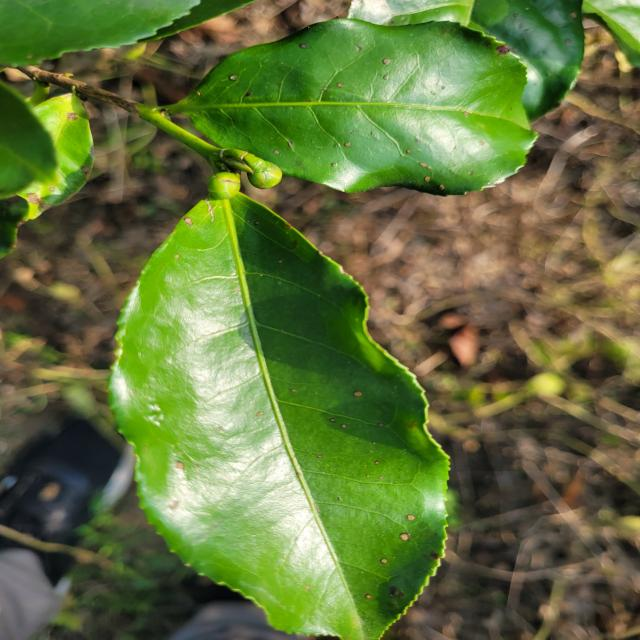Category D(7+ days, Not for Tea): (89, 161, 475, 634)
